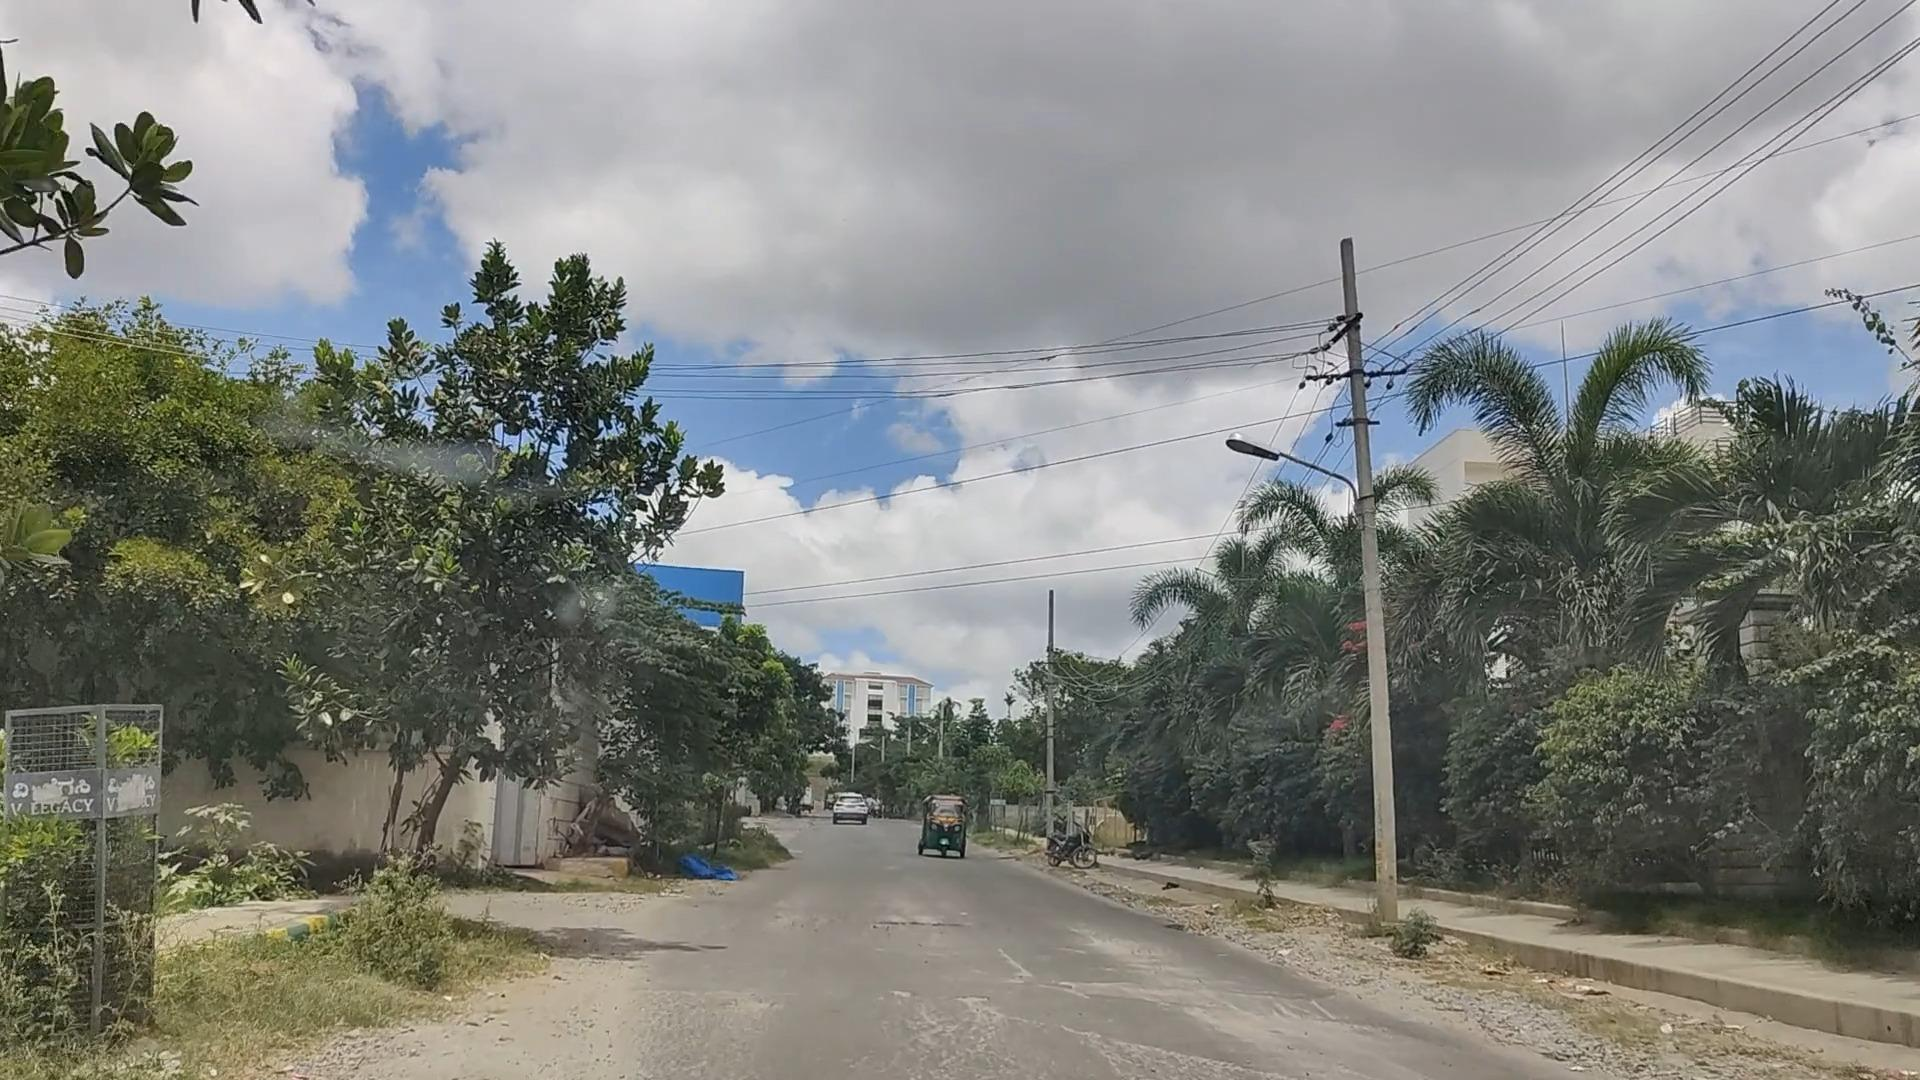RoadDamages: (848, 905, 1000, 945)
